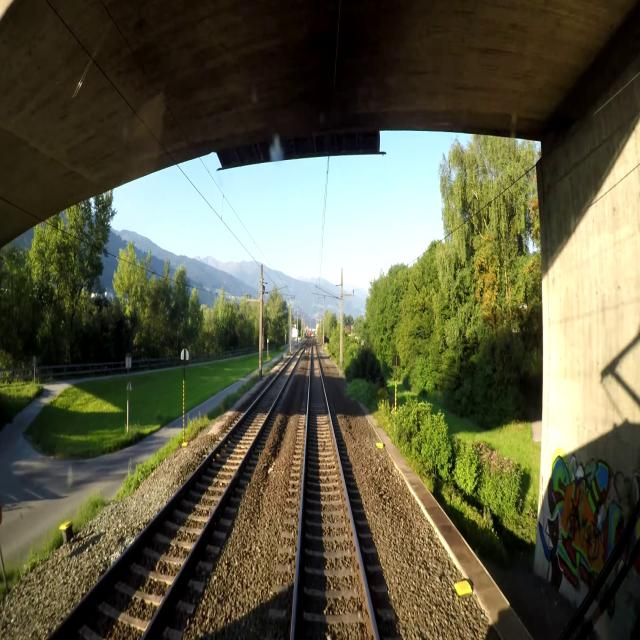rail-track: (52, 352, 299, 639), (294, 347, 374, 639)
